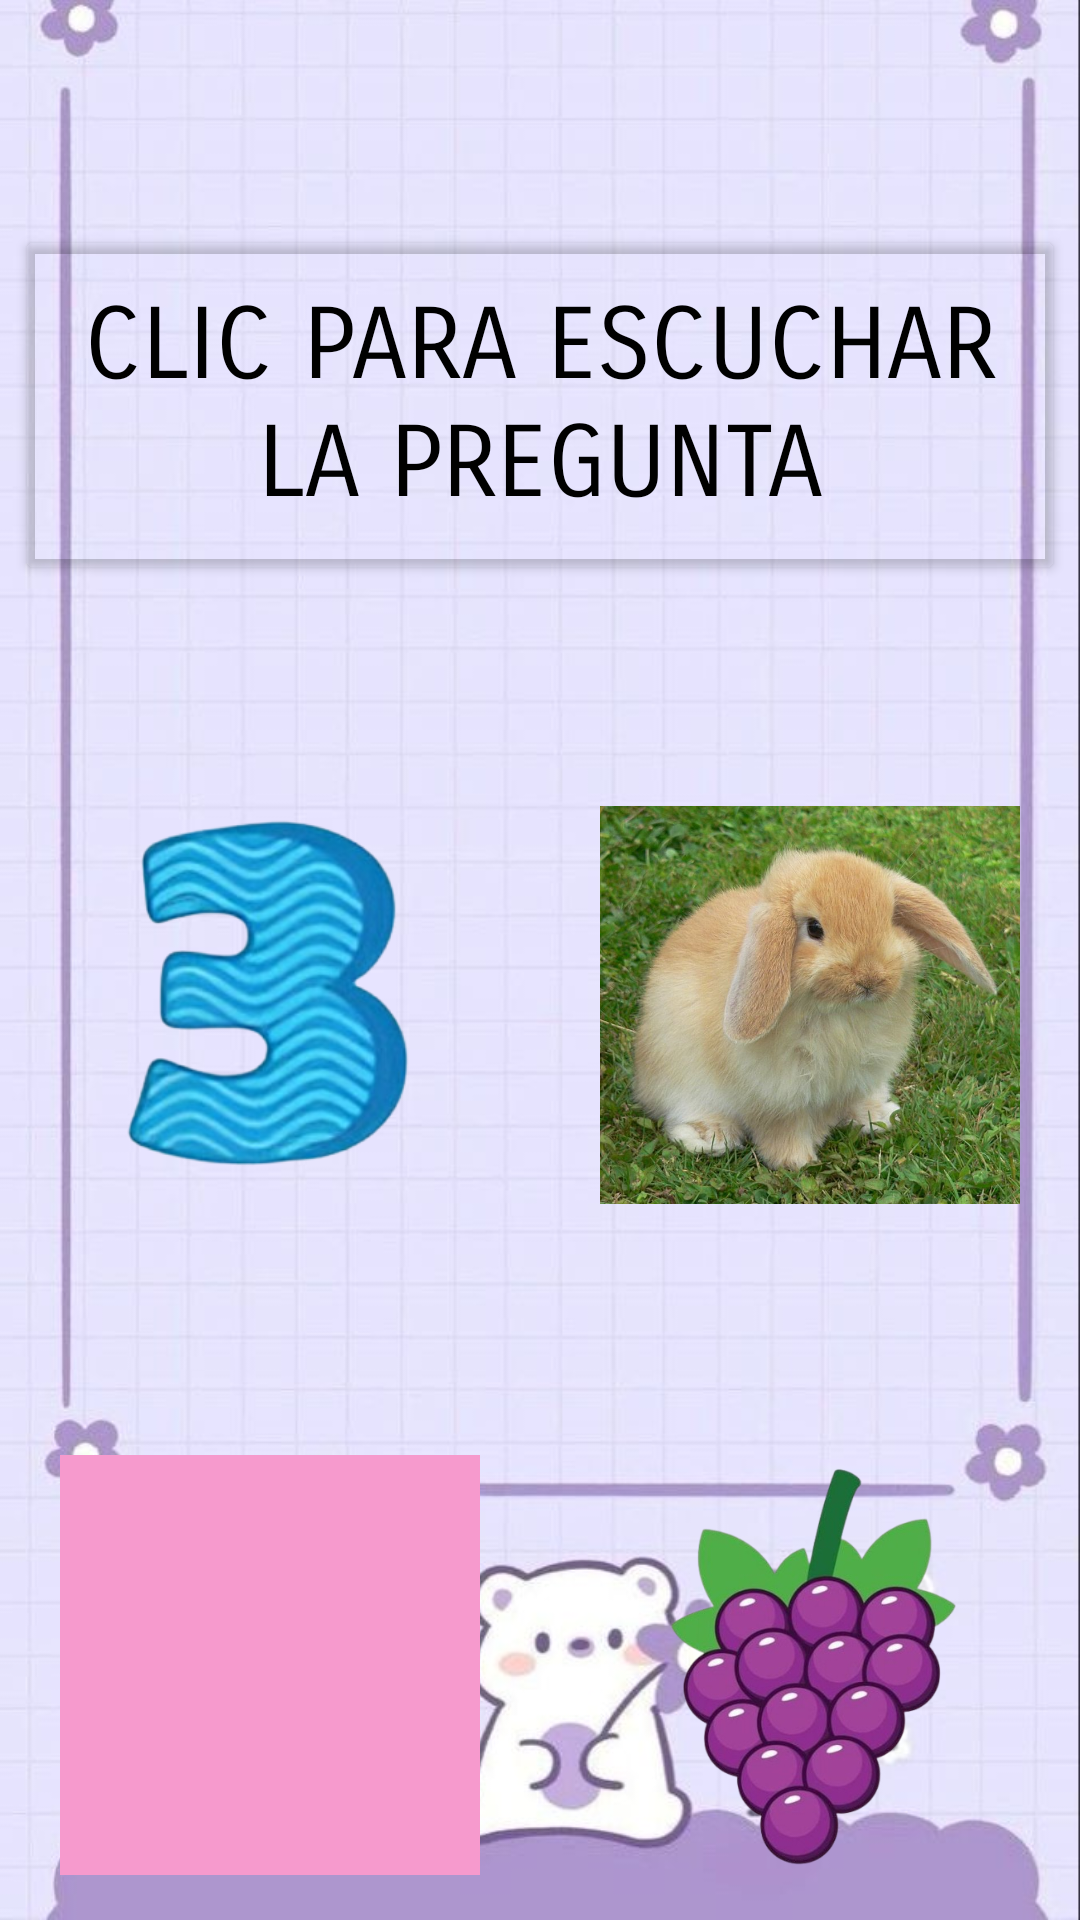

Named icons in this screenshot (1080 x 1920) and their bounding boxes, (x1, y1, x2, y2):
tres: (128, 821, 408, 1165)
